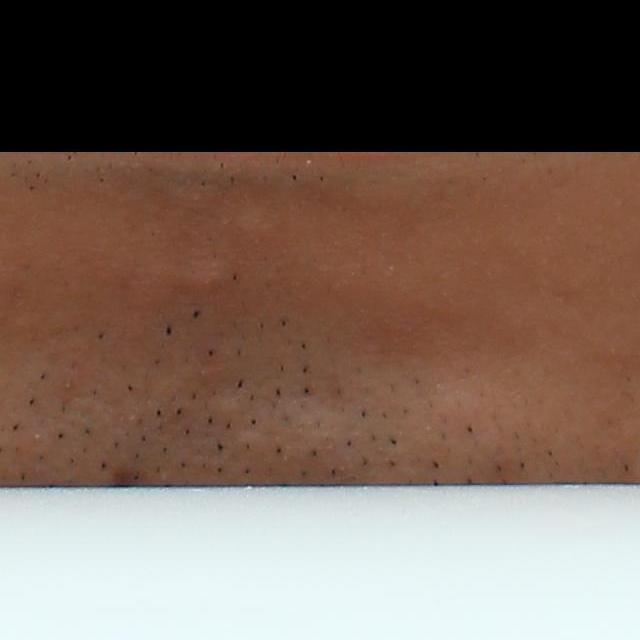hypertrophic_scar: (232, 199, 289, 239)
papule: (183, 261, 230, 298)
